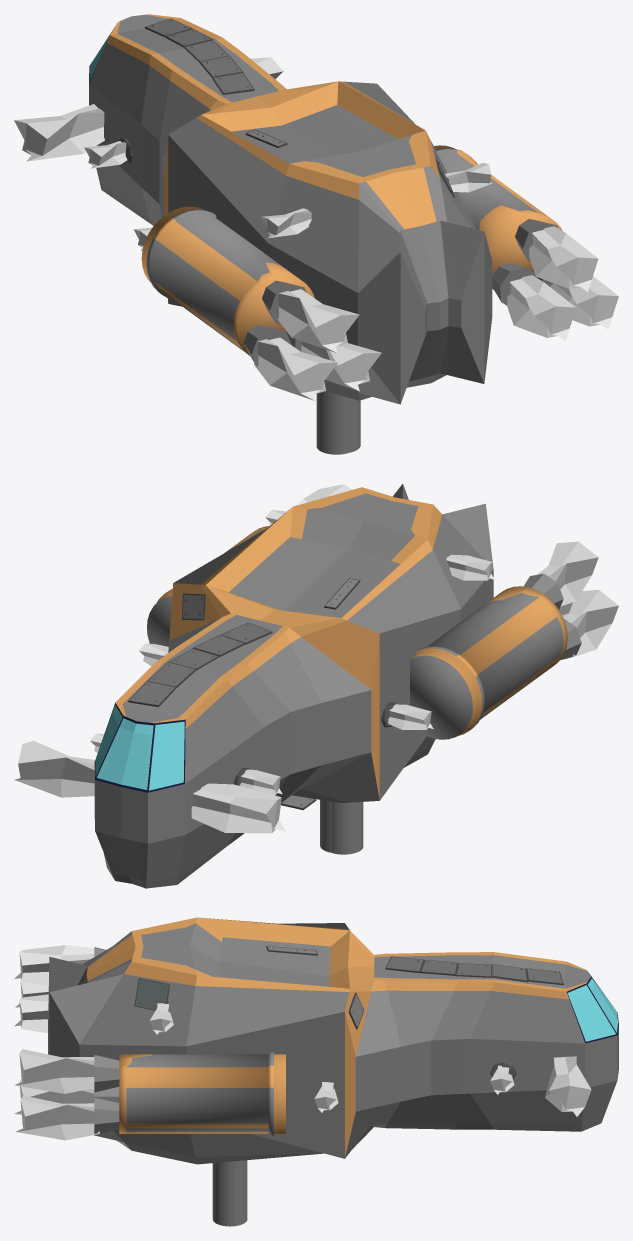
File: MainShuttle.fbx
3 views of the same model, one above another, from view 1: azimuth 30°, elevation 25°; view 2: azimuth 150°, elevation 25°; view 3: azimuth 270°, elevation 25° (orthographic). The views are drawn at different scales.
Visible parts, largest first — view 1: ShipBody.001, Back1, Back2, Back3, FrontLeft, ShipBody.002, Cannon, Double Left, Double Right; view 2: ShipBody.001, ShipBody.002, FrontLeft, FrontRight, Double Left, Back1, Cannon, Back3, Double Right; view 3: ShipBody.001, Back1, ShipBody.002, Back3, Cannon, Back2, FrontRight, Double Right.
Part boxes in pixels (left/top/right/bottom): ShipBody.001: left=89, top=14, right=562, bottom=404; Back1: left=277, top=226, right=598, bottom=353; Back2: left=301, top=275, right=576, bottom=391; Back3: left=254, top=276, right=618, bottom=400; FrontLeft: left=14, top=104, right=104, bottom=161; ShipBody.002: left=119, top=18, right=454, bottom=197; Cannon: left=316, top=391, right=360, bottom=454; Double Left: left=84, top=141, right=311, bottom=250; Double Right: left=445, top=162, right=492, bottom=192; ShipBody.001: left=94, top=484, right=581, bottom=888; ShipBody.002: left=128, top=578, right=395, bottom=810; FrontLeft: left=191, top=783, right=285, bottom=833; FrontRight: left=14, top=740, right=95, bottom=797; Double Left: left=239, top=554, right=494, bottom=795; Back1: left=295, top=484, right=598, bottom=606; Cannon: left=320, top=800, right=363, bottom=854; Back3: left=563, top=590, right=618, bottom=656; Double Right: left=90, top=510, right=286, bottom=752; ShipBody.001: left=48, top=917, right=618, bottom=1164; Back1: left=14, top=945, right=94, bottom=1093; ShipBody.002: left=134, top=946, right=563, bottom=1079; Back3: left=15, top=981, right=99, bottom=1140; Cannon: left=212, top=1160, right=247, bottom=1226; Back2: left=14, top=994, right=94, bottom=1114; FrontRight: left=545, top=1056, right=591, bottom=1116; Double Right: left=149, top=1003, right=514, bottom=1112.
Size of the model in its own units: 272 by 243 by 490.
